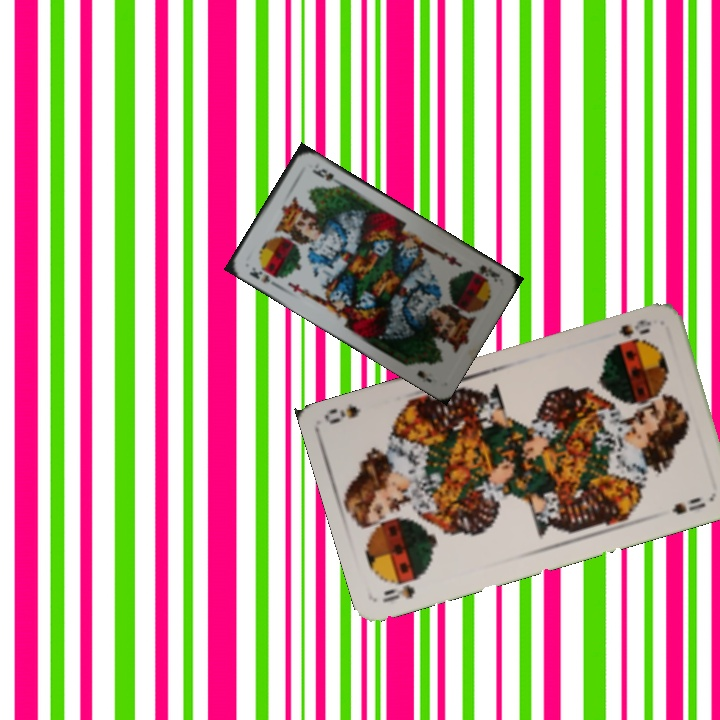SK: (245, 263, 280, 289), (466, 261, 503, 285)
SO: (609, 315, 654, 349), (378, 573, 422, 605)
